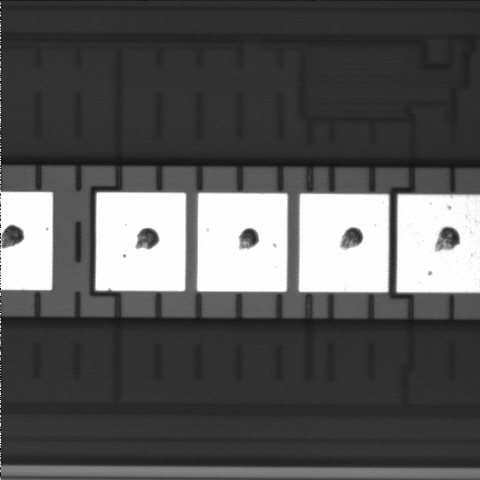pad: (96, 192, 186, 291), (197, 193, 287, 292), (299, 194, 389, 292)
